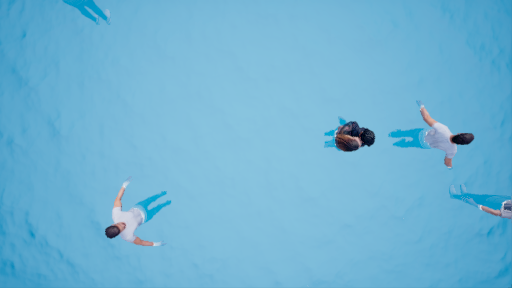person: (390, 102, 472, 171), (99, 180, 182, 248), (321, 117, 375, 158)
